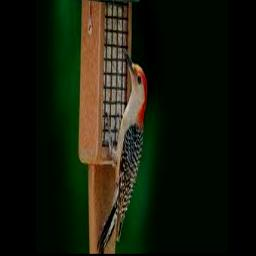Woodpecker: (97, 48, 147, 251)
